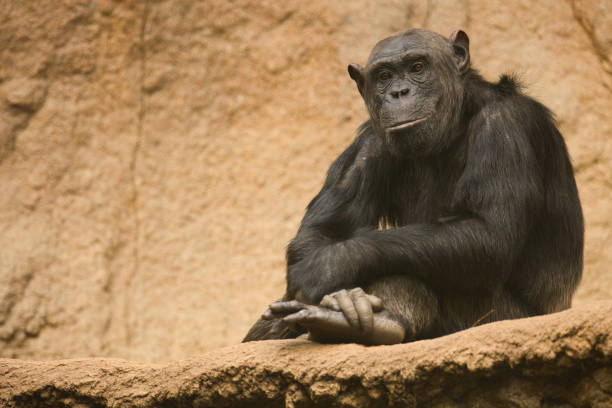chimpanzee: (306, 11, 491, 174)
